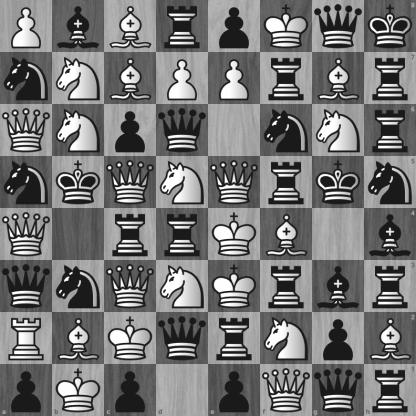B: (364, 312, 416, 364), (53, 313, 104, 364), (105, 1, 156, 52), (105, 53, 156, 104), (261, 209, 312, 260), (313, 53, 364, 104)
K: (52, 364, 104, 416), (105, 313, 156, 364), (209, 209, 260, 260), (209, 261, 260, 312), (261, 1, 312, 52)
N: (53, 53, 104, 104), (53, 105, 104, 156), (157, 157, 208, 208), (157, 261, 208, 312), (261, 313, 312, 364), (313, 105, 364, 156)
P: (1, 1, 52, 52), (157, 53, 208, 104), (209, 53, 260, 104)
Q: (260, 364, 312, 416), (1, 105, 52, 156), (1, 209, 52, 260), (105, 157, 156, 208), (105, 261, 156, 312), (209, 157, 260, 208)
R: (1, 313, 52, 364)
b: (364, 209, 416, 260), (53, 1, 104, 52), (313, 261, 364, 312)
board: (0, 0, 415, 415)
k: (364, 0, 416, 52), (53, 157, 104, 208), (313, 157, 364, 208)
n: (364, 156, 416, 209), (1, 53, 52, 104), (1, 157, 52, 208), (53, 261, 104, 312), (261, 105, 312, 156)
p: (0, 364, 52, 416), (104, 364, 156, 416), (209, 364, 260, 416), (105, 105, 156, 156), (209, 1, 260, 52), (313, 313, 364, 364)
q: (312, 364, 364, 416), (1, 261, 52, 312), (157, 105, 208, 156), (157, 313, 208, 364), (313, 1, 364, 52)
r: (364, 52, 416, 104), (364, 104, 416, 156), (364, 260, 416, 312), (364, 364, 416, 416), (105, 209, 156, 260), (157, 1, 208, 52), (157, 209, 208, 260), (209, 313, 260, 364), (261, 53, 312, 104), (261, 157, 312, 208), (261, 261, 312, 312)
